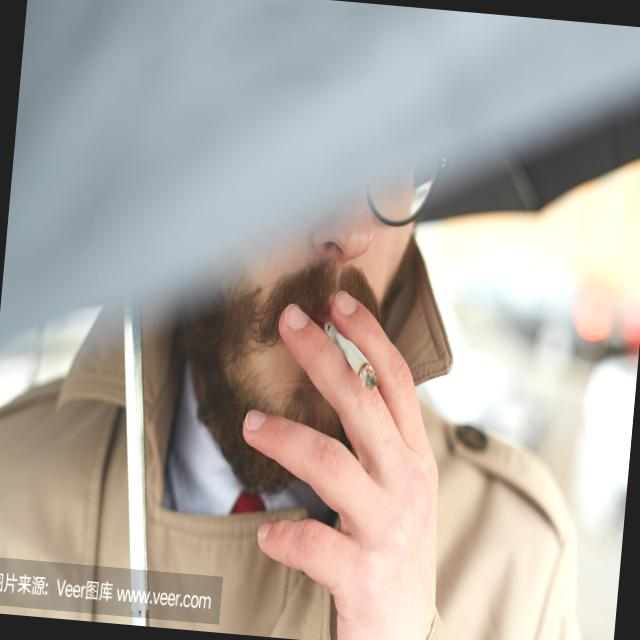cigarette: (314, 314, 384, 392)
